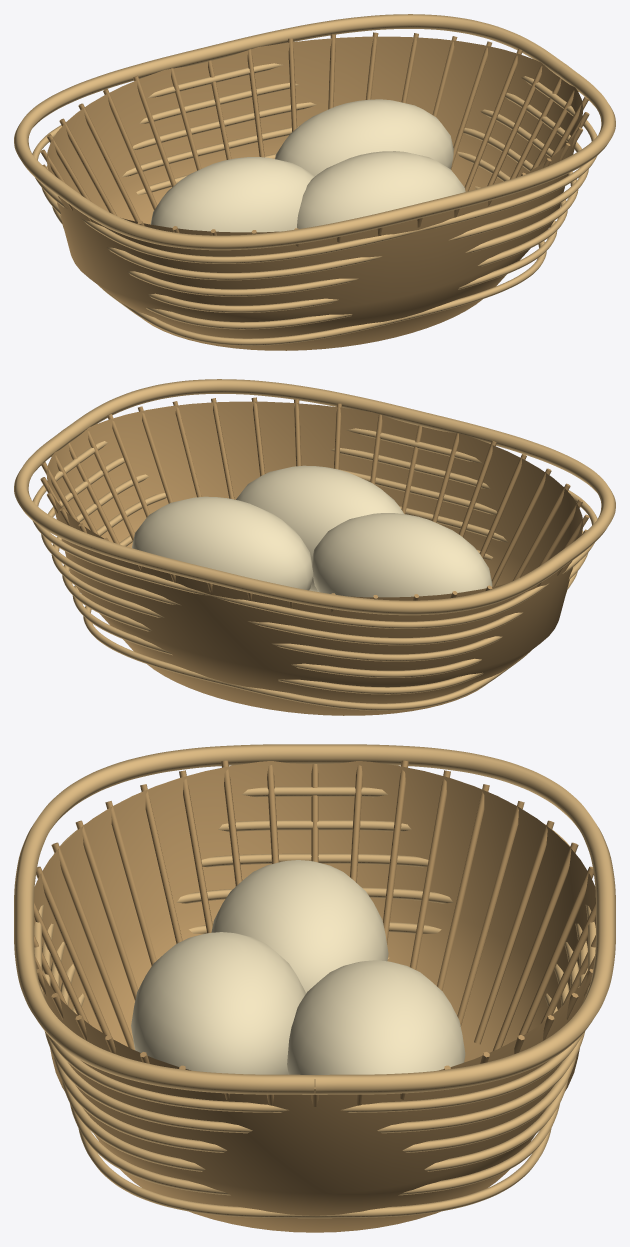
The model's file is BreadBasket.fbx.
The picture shows the model from 3 angles, top to bottom: view 1: azimuth 30°, elevation 25°; view 2: azimuth 150°, elevation 25°; view 3: azimuth 270°, elevation 25°; orthographic projection. The views are drawn at different scales.
Visible parts, largest first — view 1: Surface_KKTC_Willow, Surface_KKTC_WillowLight, Surface_KKTC_Paper; view 2: Surface_KKTC_Willow, Surface_KKTC_WillowLight, Surface_KKTC_Paper; view 3: Surface_KKTC_Willow, Surface_KKTC_WillowLight, Surface_KKTC_Paper.
Part boxes in pixels (x1=…): Surface_KKTC_Willow: x1=40, y1=32, x2=589, y2=350; Surface_KKTC_WillowLight: x1=14, y1=14, x2=615, y2=345; Surface_KKTC_Paper: x1=150, y1=99, x2=465, y2=232; Surface_KKTC_Willow: x1=40, y1=397, x2=589, y2=715; Surface_KKTC_WillowLight: x1=14, y1=379, x2=615, y2=710; Surface_KKTC_Paper: x1=132, y1=465, x2=492, y2=597; Surface_KKTC_Willow: x1=34, y1=760, x2=595, y2=1232; Surface_KKTC_WillowLight: x1=14, y1=744, x2=615, y2=1218; Surface_KKTC_Paper: x1=131, y1=860, x2=465, y2=1074.
Size of the model in its own units: 24 by 6.86 by 18.
